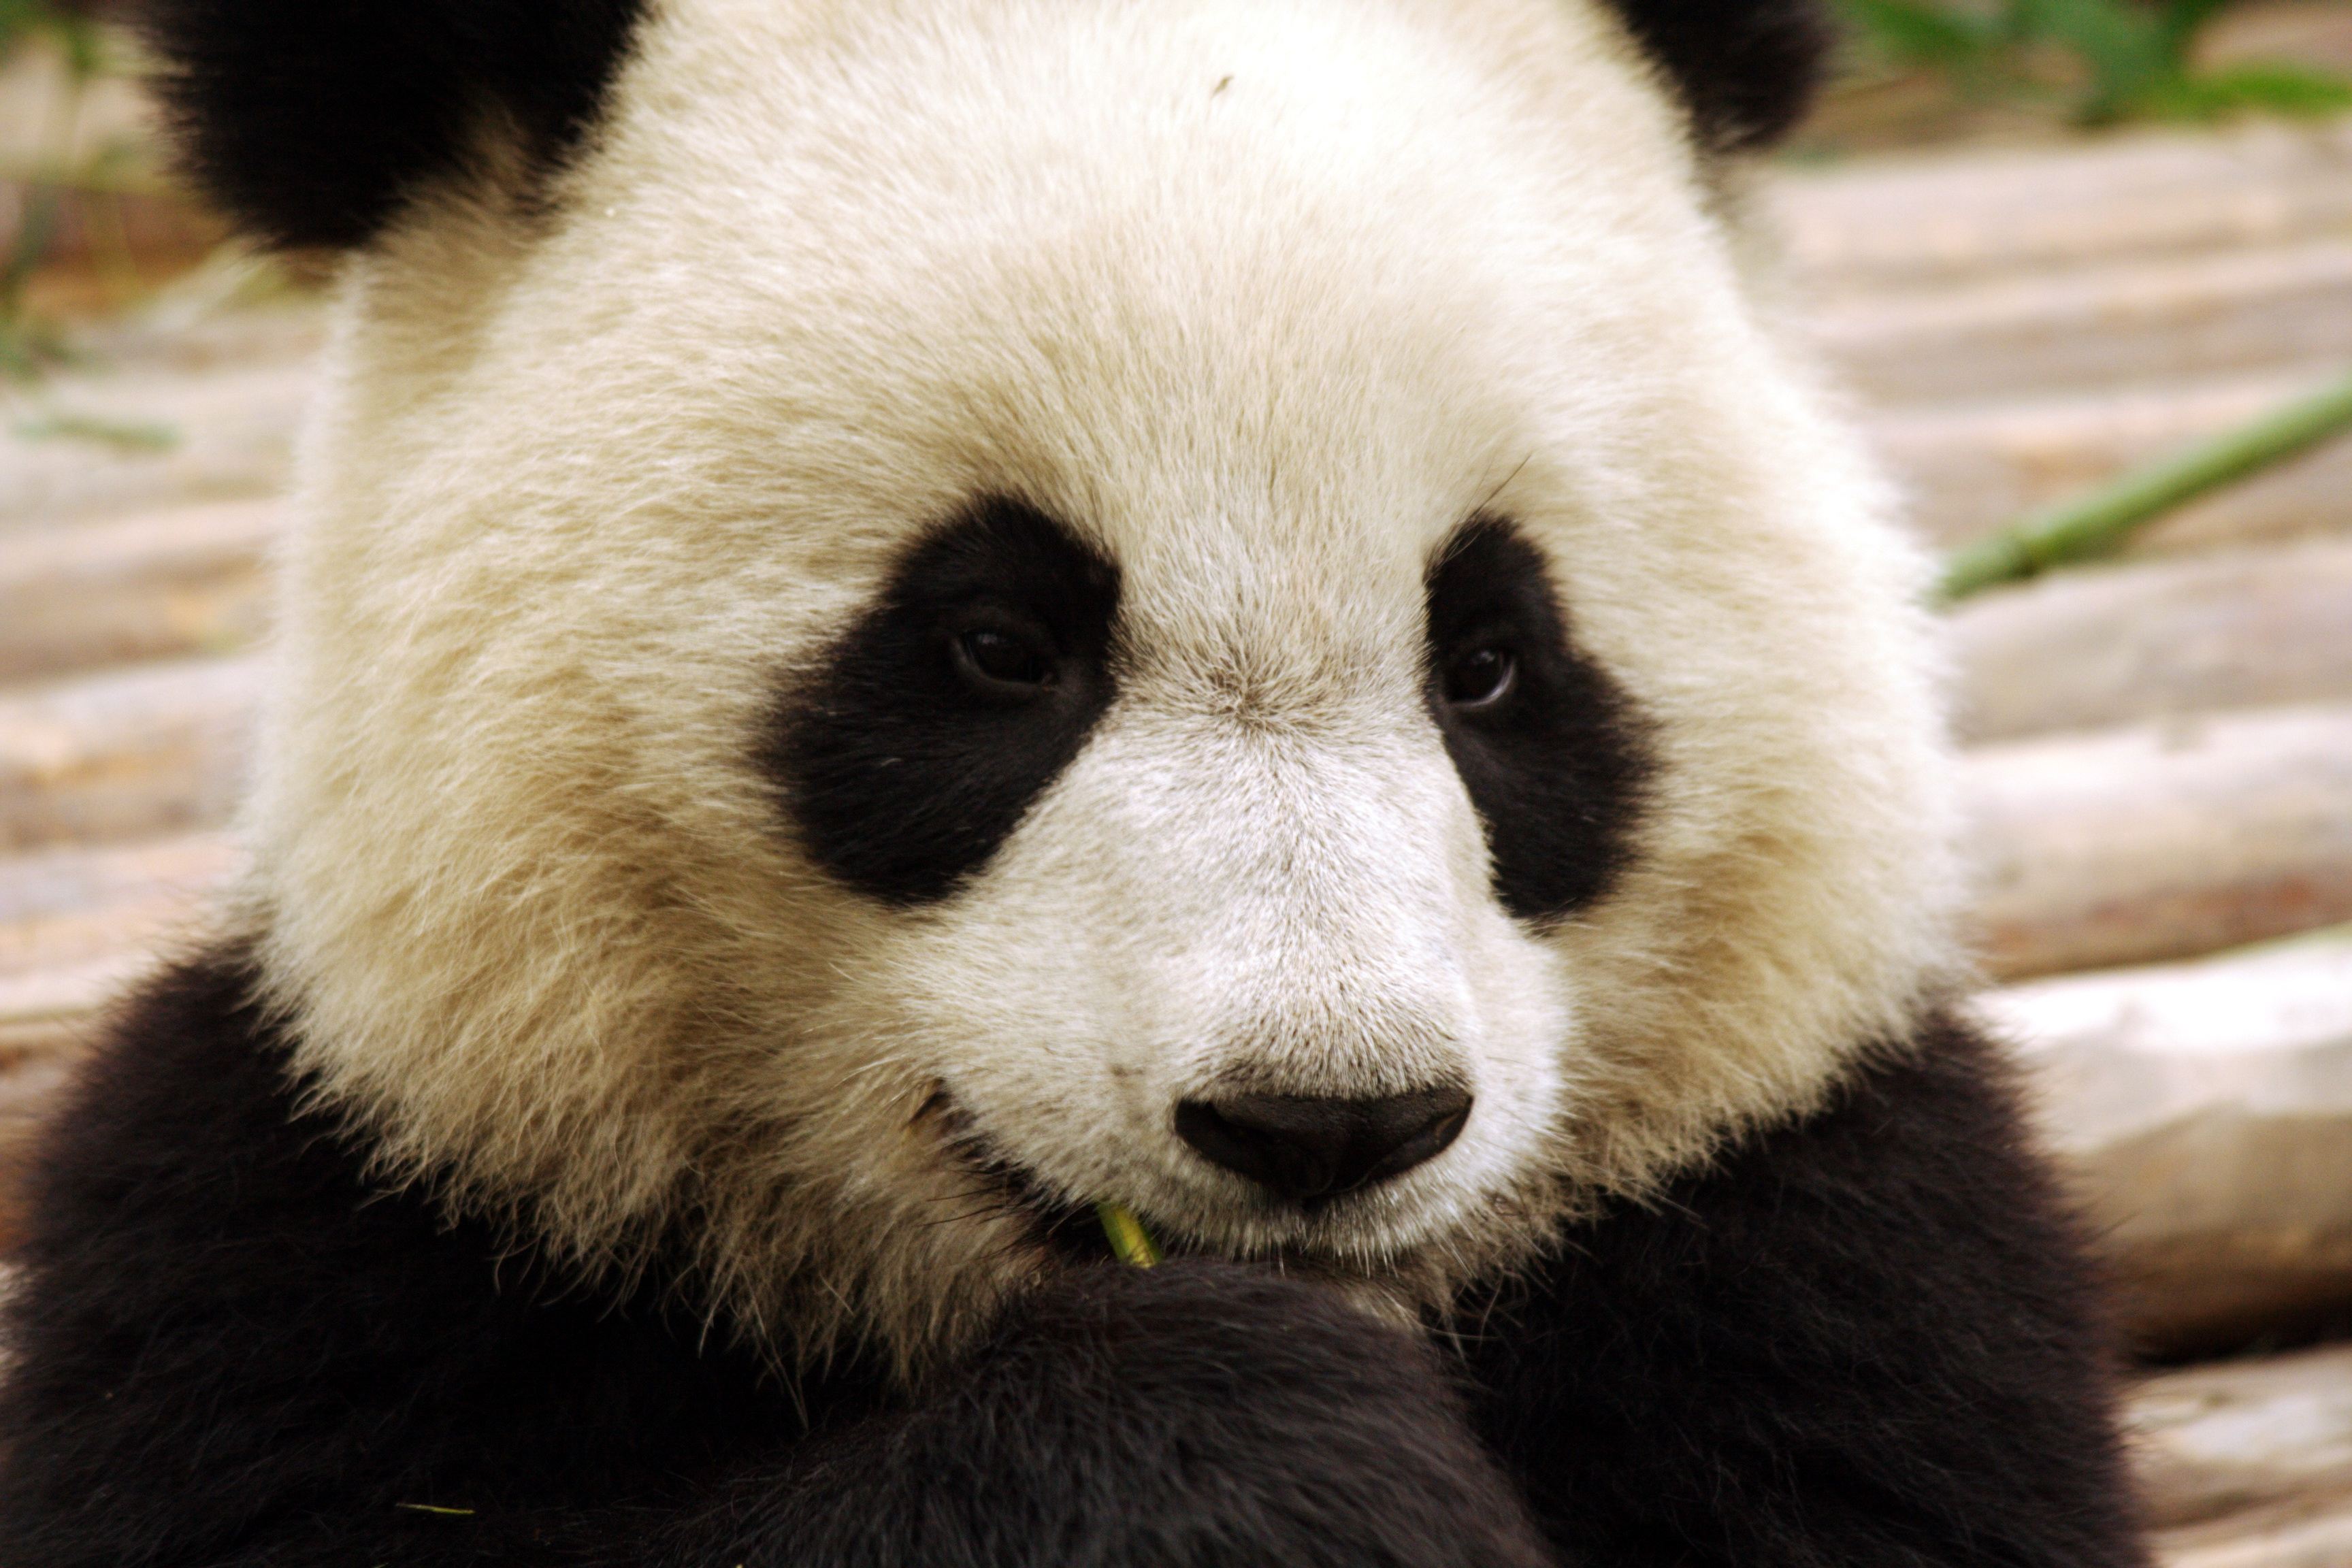panda: (96, 19, 2144, 1565)
